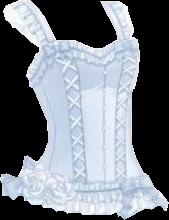Bodice: (3, 0, 166, 218)
Neckline: (29, 0, 119, 49)
Waistline: (15, 178, 166, 216)
